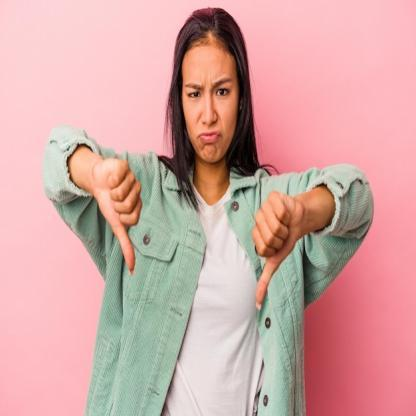thumb_down: (90, 146, 146, 274), (250, 187, 298, 310)
